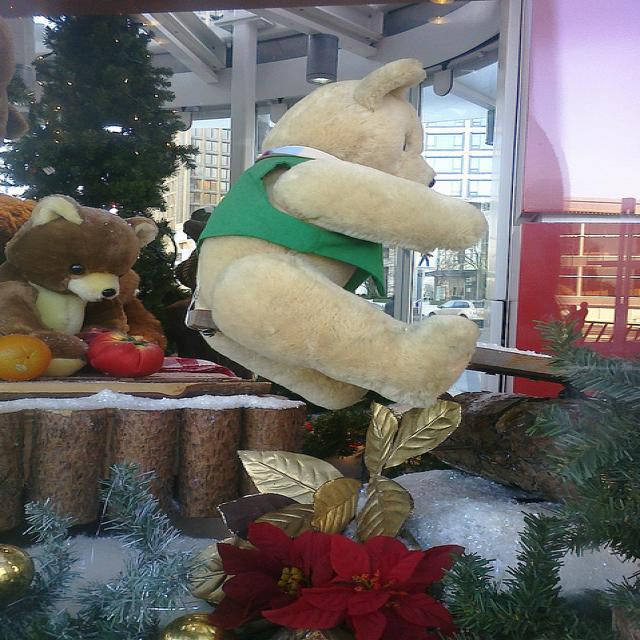Vehicle: (422, 298, 484, 322)
